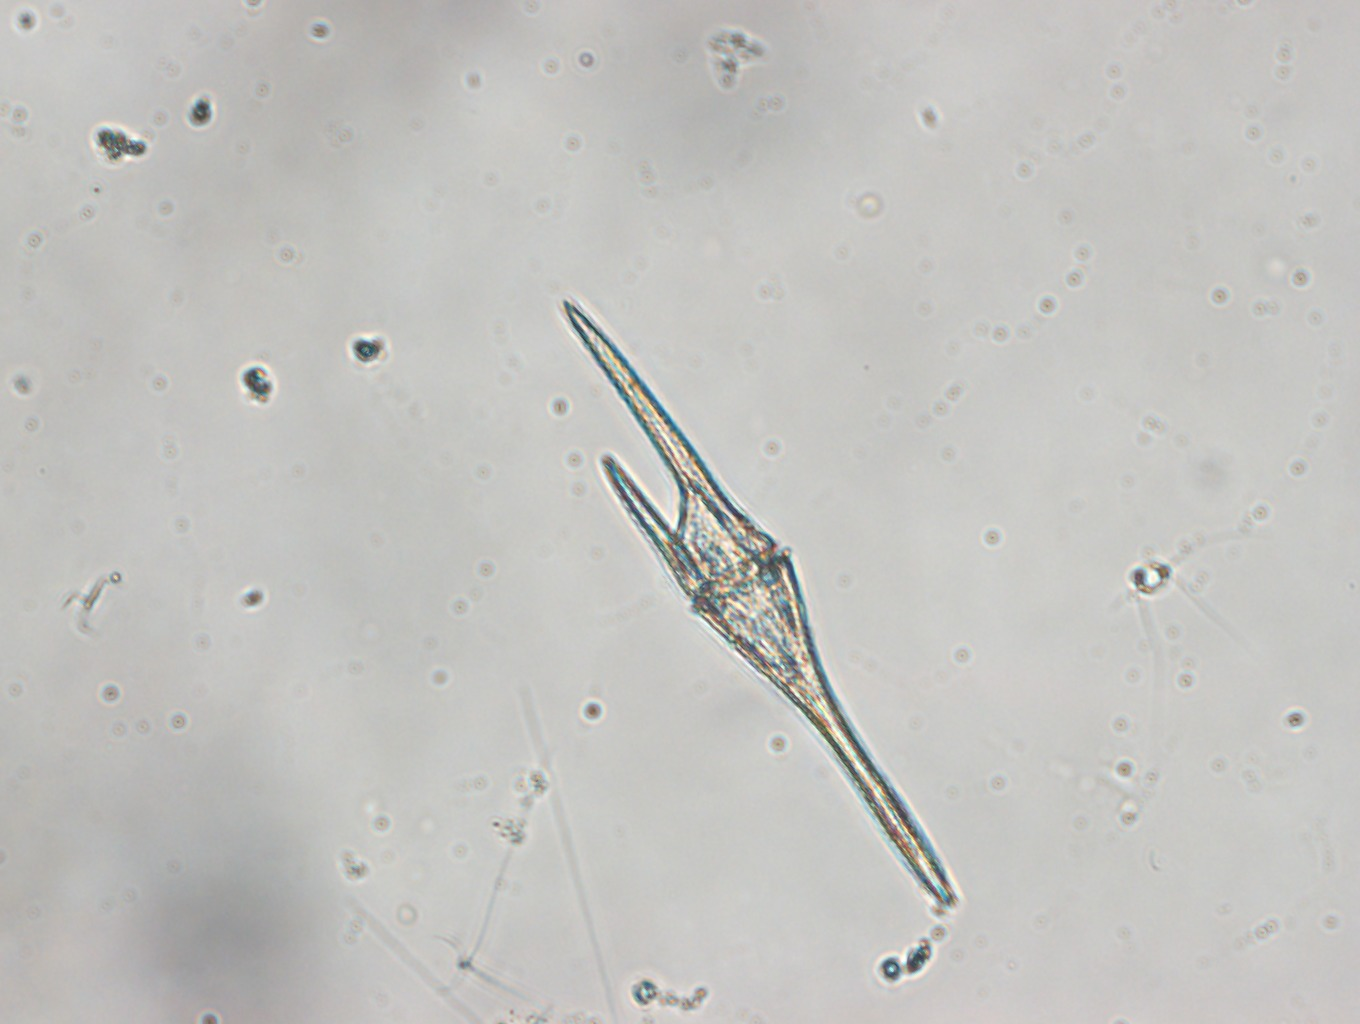ceratium furca: (557, 291, 965, 913)
